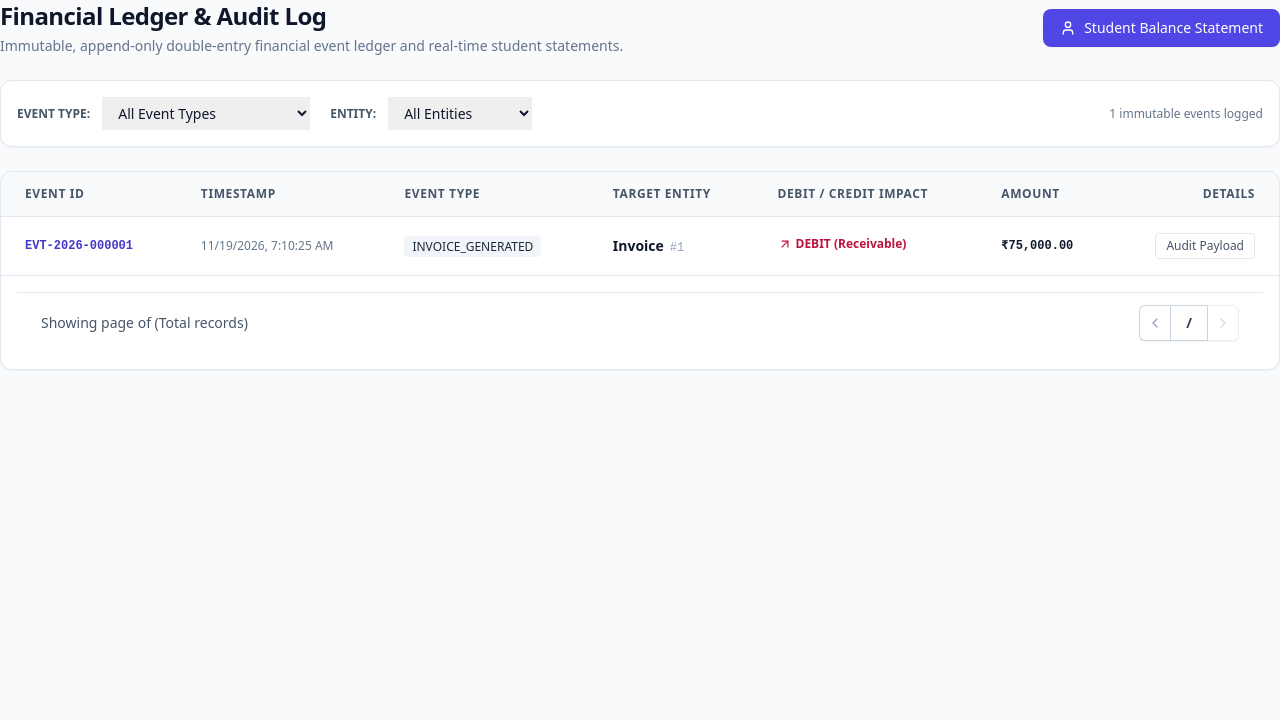
Scenario: Task 4: Financial Management Frontend Pages › Ledger Page › renders immutable audit log and allows fetching student statement
This screenshot has width=1280, height=720.
Check: the heading "Financial Ledger & Audit Log" is shown, box [0,0,326,32]
Check: the text "EVT-2026-000001" is shown, box [1,216,177,275]
# Open Statement Modal
Click the button "Student Balance Statement".
click(1162, 28)  # box [1043,9,1279,47]
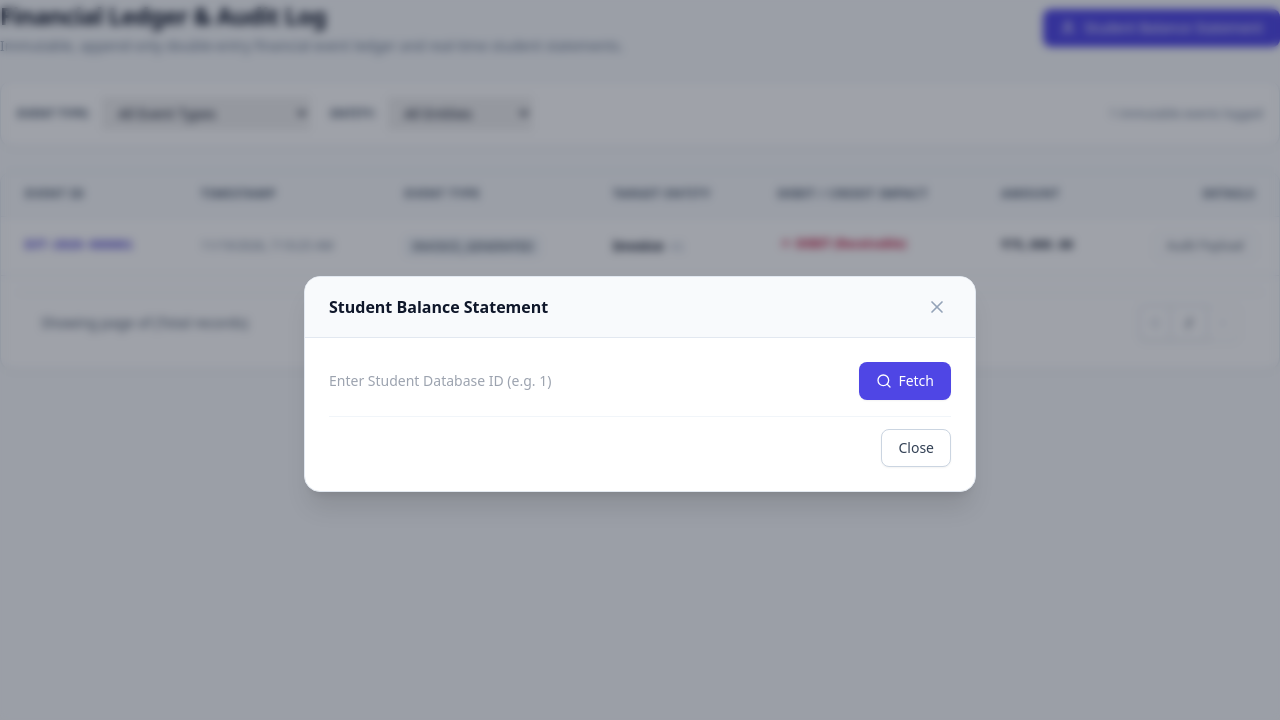
Check: the heading "Student Balance Statement" is shown, box [329,295,548,319]
